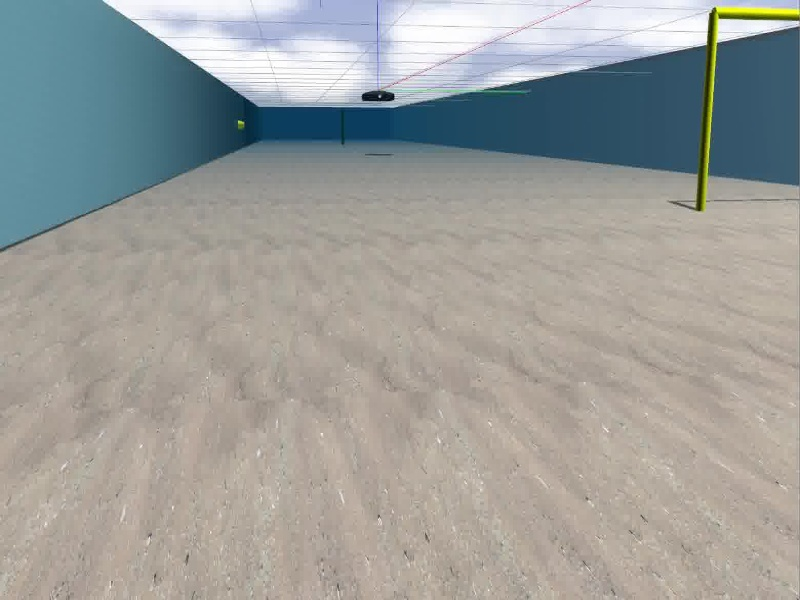gate: (696, 6, 800, 212)
